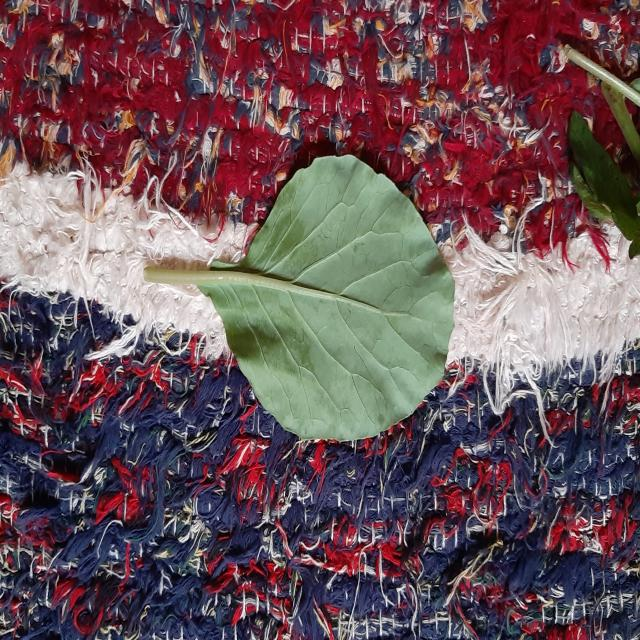Kohlrabi: (145, 156, 454, 440)
